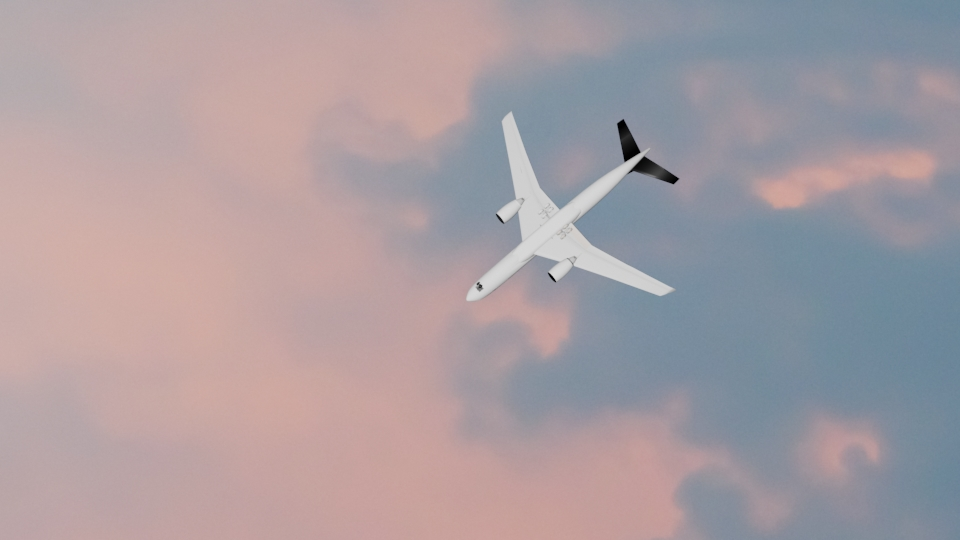plane: (462, 109, 686, 304)
